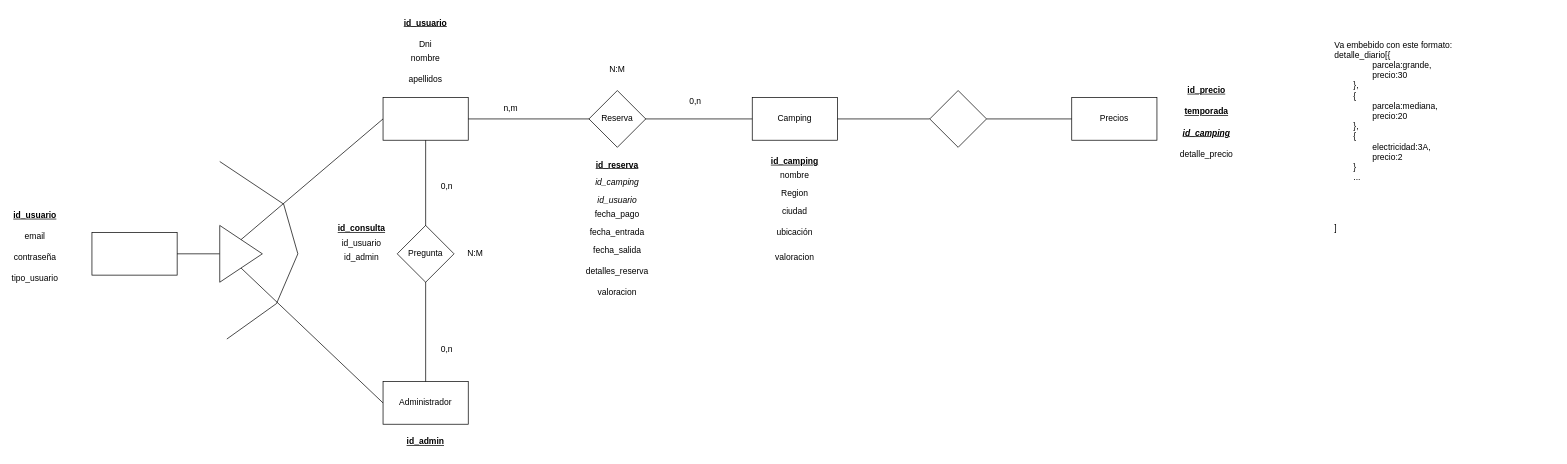
This 1567x464 diagram has some shape labels left out. The centre of each missing label's shape, as x and y in pixels:
"Tiene" goes at pixel 958 118.
"Usuario" goes at pixel 134 253.
"Usuario_registrado" goes at pixel 425 118.
